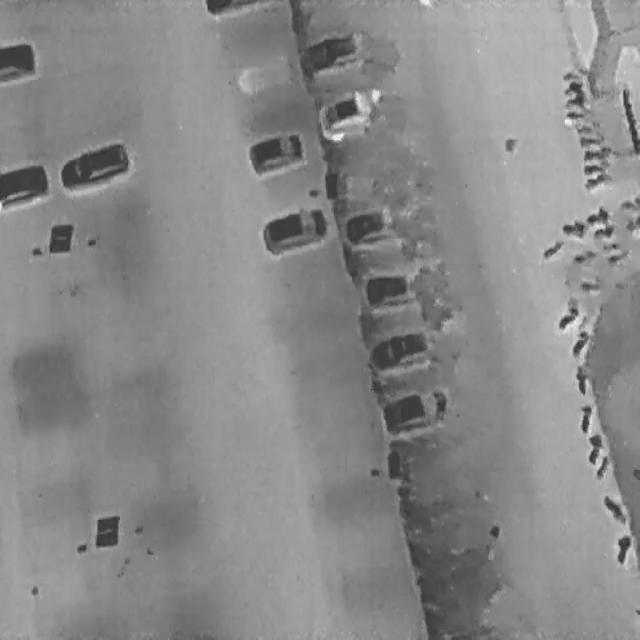Car: (257, 196, 330, 258), (56, 138, 131, 194), (366, 322, 439, 372), (380, 383, 449, 435), (297, 25, 364, 77), (316, 82, 376, 132), (245, 128, 305, 176), (364, 265, 419, 310), (344, 202, 399, 246), (1, 159, 49, 209), (0, 41, 35, 85), (203, 0, 277, 15)
